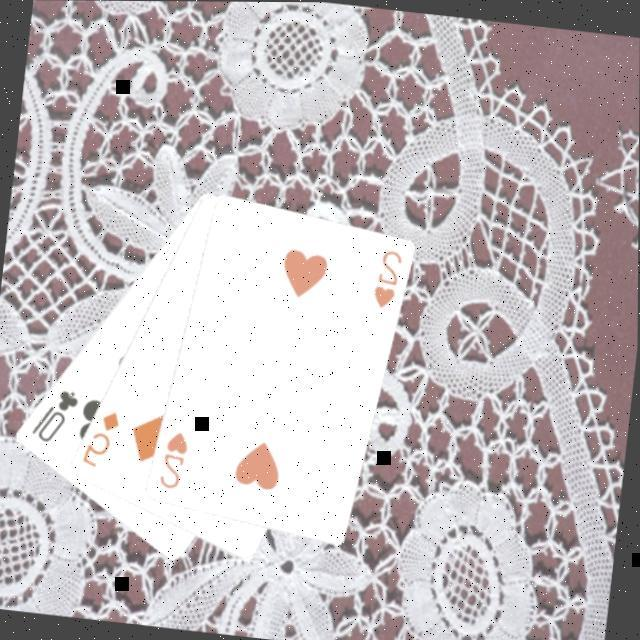10C: (24, 383, 80, 450)
2H: (152, 426, 191, 494), (366, 245, 403, 313)
5D: (76, 404, 121, 472)
